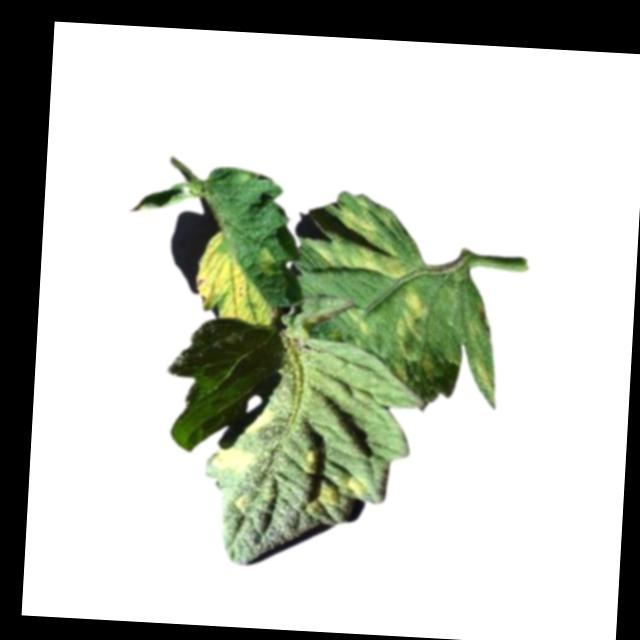Leaf_Mold: (192, 232, 276, 328), (312, 205, 412, 283), (389, 283, 429, 362), (209, 446, 259, 479), (306, 478, 338, 514), (345, 476, 366, 500)
